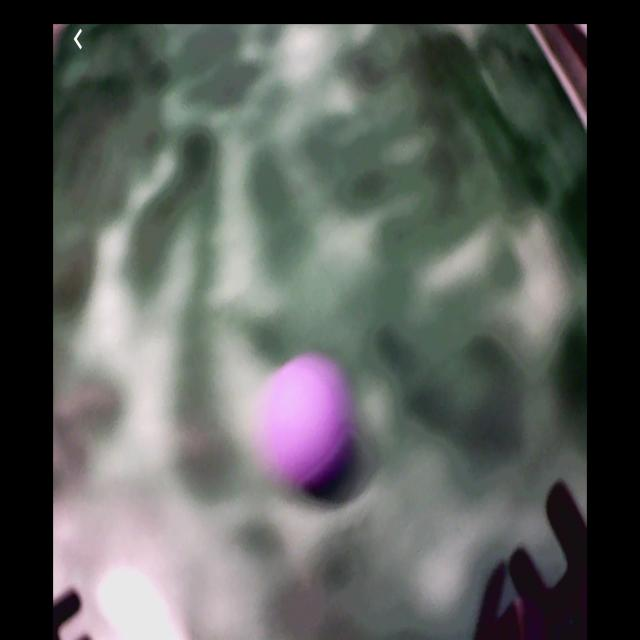ball: (264, 353, 349, 486)
